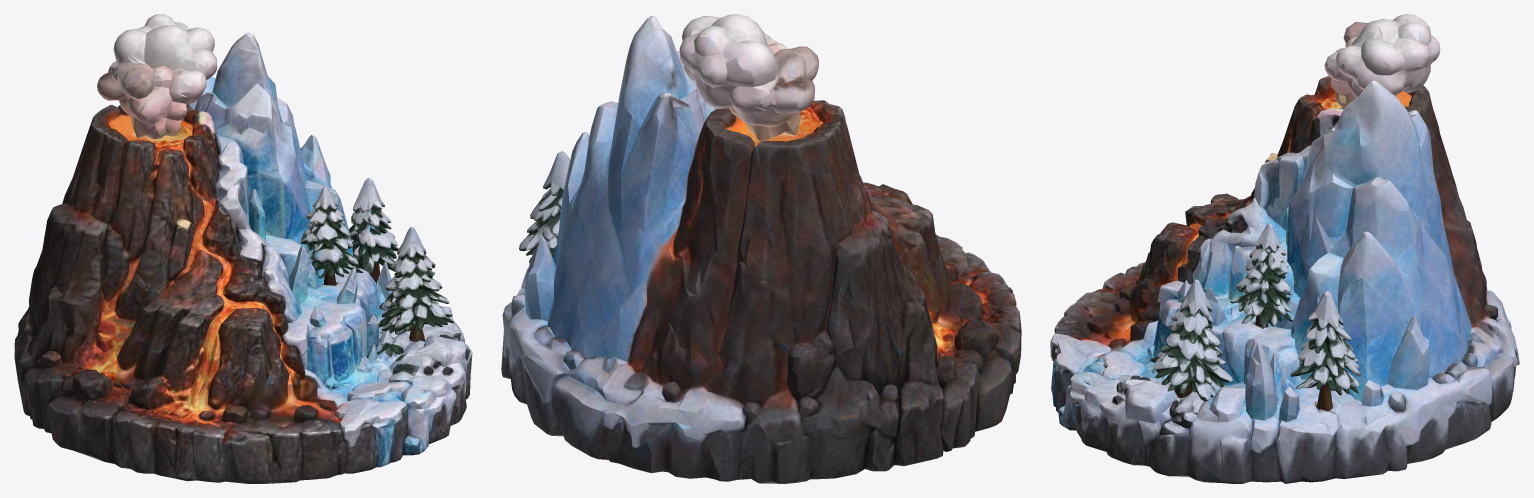
The model's file is island_geography.glb.
The picture shows the model from 3 angles, left to right: view 1: azimuth 30°, elevation 25°; view 2: azimuth 150°, elevation 25°; view 3: azimuth 270°, elevation 25°; orthographic projection. The views are drawn at different scales.
Visible parts, largest first — view 1: Mesh_0; view 2: Mesh_0; view 3: Mesh_0.
Part boxes in pixels (x1,y1,x2,y2): Mesh_0: [14, 14, 472, 483]; Mesh_0: [501, 14, 1021, 483]; Mesh_0: [1050, 14, 1519, 483].
Bounding box in the file's own units: 1.87 × 1.59 × 1.9.
1 material, 1 textured.
